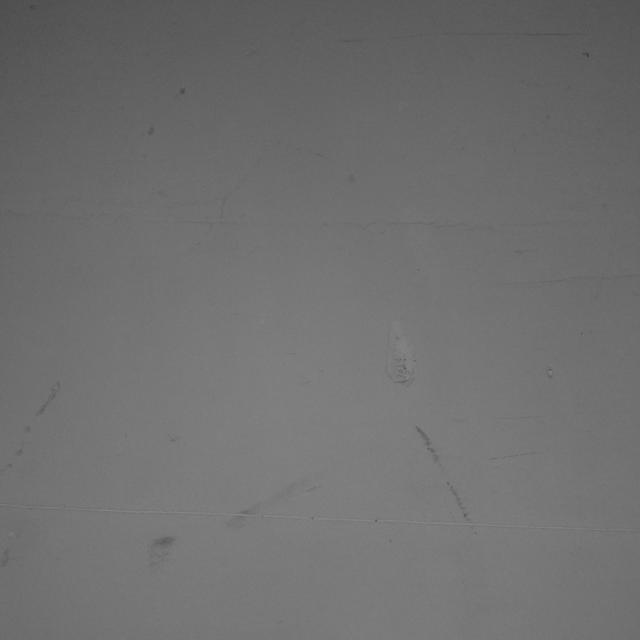rough and patchy surface: (0, 14, 638, 586)
